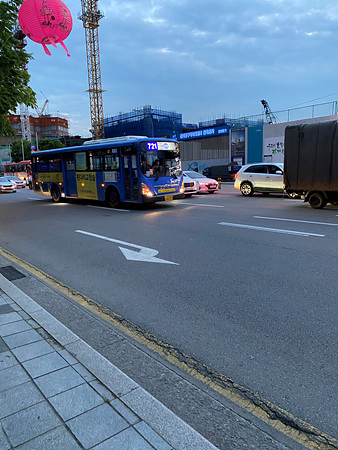entrance: (119, 147, 141, 201)
